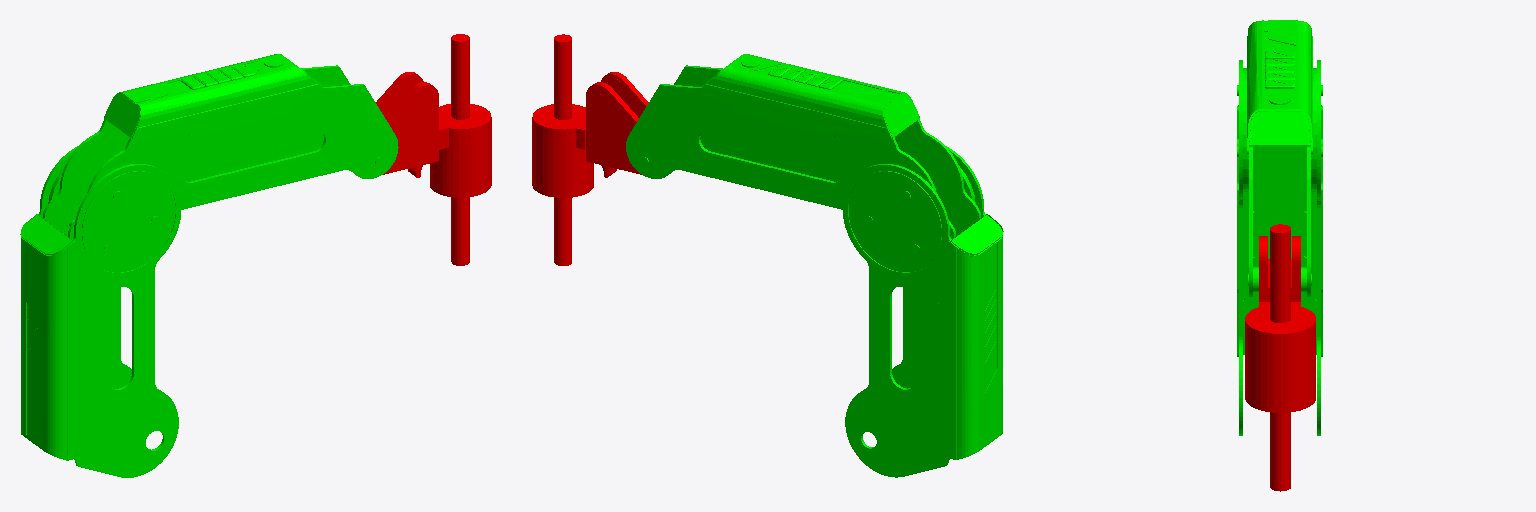
robot.urdf — magician:
<?xml version="1.0" ?>
<robot name="magician" xmlns:xi="http://www.w3.org/2001/XInclude">

  <material name="Red">
    <color rgba="1 0 0 1"/>
  </material>
  <material name="Green">
    <color rgba="0 1 0 1"/>
  </material>
  <material name="Blue">
    <color rgba="0 0 1 1"/>
  </material>
  <material name="Orange">
    <color rgba="1 0.6 0.0 1"/>
  </material>

  <link name="magician_root_link"/>
  <link name="magician_base_link">
    <visual>
      <origin rpy="0 0 0" xyz="0 0 0"/>
      <geometry>
        <mesh filename="package://dobot_kinematics/meshes/collision/core/magicianBase.dae"/>
      </geometry>
       <material name="Orange"/>
    </visual>
    <collision>
      <origin rpy="0 0 0" xyz="0 0 0"/>
      <geometry>
        <mesh filename="package://dobot_kinematics/meshes/collision/core/magicianBase.dae"/>
      </geometry>
      <material name="Orange"/>
    </collision>
  </link>
  <joint name="magician_joint_base" type="fixed">
    <parent link="magician_root_link"/>
    <child link="magician_base_link"/>
    <axis xyz="0 0 0"/>
    <limit effort="2000" lower="0" upper="0" velocity="1"/>
    <origin rpy="0 0 0" xyz="0 0 0"/>
    <dynamics damping="0.0" friction="0.0"/>
  </joint>
  <link name="magician_link_1">
    <visual>
      <origin rpy="0 0 0" xyz="0 0 0"/>
      <geometry>
        <mesh filename="package://dobot_kinematics/meshes/collision/core/magicianLink1.dae"/>
      </geometry>
             <material name="Green"/>
    </visual>
    <collision>
      <origin rpy="0 0 0" xyz="0 0 0"/>
      <geometry>
        <mesh filename="package://dobot_kinematics/meshes/collision/core/magicianLink1.dae"/>
      </geometry>
      <material name="Green"/>
    </collision>
  </link>
  <joint name="magician_joint_1" type="revolute">
    <parent link="magician_base_link"/>
    <child link="magician_link_1"/>
    <axis xyz="0 0 1"/>
    <limit effort="2000" lower="-2.1816615649929116" upper="2.1816615649929116" velocity="1"/>
    <origin rpy="0 0 0" xyz="0 0 0"/>
    <dynamics damping="0.0" friction="0.0"/>
  </joint>
  <link name="magician_link_2">
    <visual>
      <origin rpy="0 -0.3490658503988659 0" xyz="0 0 0"/>
      <geometry>
        <mesh filename="package://dobot_kinematics/meshes/collision/core/magicianLink2.dae"/>
      </geometry>
      <material name="Green"/>
    </visual>
    <collision>
      <origin rpy="0 -0.3490658503988659 0" xyz="0 0 0"/>
      <geometry>
        <mesh filename="package://dobot_kinematics/meshes/collision/core/magicianLink2.dae"/>
      </geometry>
      <material name="Green"/>
    </collision>
  </link>
  <joint name="magician_joint_2" type="revolute">
    <parent link="magician_link_1"/>
    <child link="magician_link_2"/>
    <axis xyz="0 1 0"/>
    <limit effort="2000" lower="-0.08726646259971647" upper="1.5707963267948966" velocity="1"/>
    <origin rpy="0 0.0 0" xyz="0 0 0.0"/>
    <dynamics damping="0.0" friction="0.0"/>
  </joint>
  <link name="magician_link_3">
    <visual>
      <origin rpy="0 -0.47123889803846897 0" xyz="0.01645236135969491 0 -0.13399373047157848"/>
      <geometry>
        <mesh filename="package://dobot_kinematics/meshes/collision/core/magicianLink3.dae"/>
      </geometry>
      <material name="Green"/>
    </visual>
    <collision>
      <origin rpy="0 -0.47123889803846897 0" xyz="0.01645236135969491 0 -0.13399373047157848"/>
      <geometry>
        <mesh filename="package://dobot_kinematics/meshes/collision/core/magicianLink3.dae"/>
      </geometry>
      <material name="Green"/>
    </collision>
  </link>
  <joint name="magician_joint_3" type="revolute">
    <parent link="magician_link_2"/>
    <child link="magician_link_3"/>
    <axis xyz="0 1 0"/>
    <limit effort="2000" lower="-0.2617993877991494" upper="1.2217304763960306" velocity="1"/>
    <origin rpy="0 0 0" xyz="0 0.0 0.135"/>
    <dynamics damping="0.0" friction="0.0"/>
  </joint>
  <joint name="magician_joint_mimic_1" type="revolute">
    <parent link="magician_link_3"/>
    <child link="magician_link_4"/>
    <axis xyz="0 1 0"/>
    <limit effort="2000" lower="-3.14159265359" upper="3.14159265359" velocity="1"/>
    <origin rpy="0 0 0" xyz="0.147 0 0"/>
    <dynamics damping="0.0" friction="0.0"/>
  </joint>
  <link name="magician_link_4">
    <visual>
      <origin rpy="0 0 0" xyz="-0.17715067840465534 0 -0.058595107267811"/>
      <geometry>
        <mesh filename="package://dobot_kinematics/meshes/collision/end_tools/pen_collision_part1.dae"/>
      </geometry>
      <material name="Red"/>
    </visual>
    <collision>
      <origin rpy="0 0 0" xyz="-0.17715067840465534 0 -0.058595107267811"/>
      <geometry>
        <mesh filename="package://dobot_kinematics/meshes/collision/end_tools/pen_collision_part1.dae"/>
      </geometry>
      <material name="Red"/>
    </collision>
  </link>
  <joint name="magician_joint_end_effector" type="fixed">
    <parent link="magician_link_4"/>
    <child link="end_effector_part"/>
    <origin rpy="0 0 0" xyz="0 0 0"/>
  </joint>
  <link name="end_effector_part">
    <visual>
      <origin rpy="0 0 0" xyz="-0.17715067840465534 0 -0.058595107267811"/>
      <geometry>
        <mesh filename="package://dobot_kinematics/meshes/collision/end_tools/pen_collision_part2.dae"/>
      </geometry>
      <material name="Red"/>
    </visual>
    <collision>
      <origin rpy="0 0 0" xyz="-0.17715067840465534 0 -0.058595107267811"/>
      <geometry>
        <mesh filename="package://dobot_kinematics/meshes/collision/end_tools/pen_collision_part2.dae"/>
      </geometry>
      <material name="Red"/>
    </collision>
  </link>
</robot>

--- What the picture shows (computed from the rendered views, not written in the file) ---
Views: 3 orthographic renders of the robot side by side, from view 1: azimuth 30°, elevation 25°; view 2: azimuth 150°, elevation 25°; view 3: azimuth 270°, elevation 25°.
Robot: magician — 7 links, 6 joints (4 revolute, 2 fixed); root link magician_root_link; default pose: all joints at 0.
Visible links, largest first — view 1: magician_link_2, magician_link_3, magician_link_4, end_effector_part; view 2: magician_link_2, magician_link_3, magician_link_4, end_effector_part; view 3: magician_link_2, magician_link_3, magician_link_4, end_effector_part.
Link boxes in pixels (x1,y1,x2,y2): magician_link_2: (20,146,181,477); magician_link_3: (43,54,398,238); magician_link_4: (376,72,491,197); end_effector_part: (451,34,469,265); magician_link_2: (843,146,1003,477); magician_link_3: (626,54,980,238); magician_link_4: (532,72,648,197); end_effector_part: (554,34,571,265); magician_link_2: (1237,60,1322,435); magician_link_3: (1247,20,1312,296); magician_link_4: (1245,236,1315,412); end_effector_part: (1270,224,1290,491).
Size in the robot's own frame: 0.2918 by 0.042 by 0.223 metres.
4 mesh visuals loaded from 6 distinct referenced files (4 Collada DAE); not drawn: 2 (reference not matched to a file when rendering).